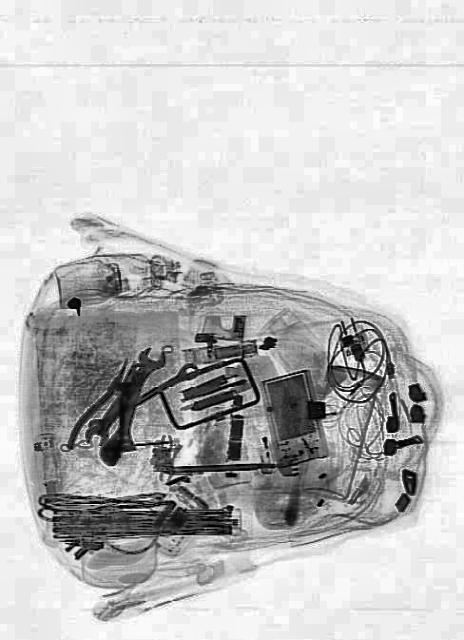Pliers: (64, 347, 148, 473)
Wrench: (79, 356, 201, 452), (112, 340, 168, 458)
